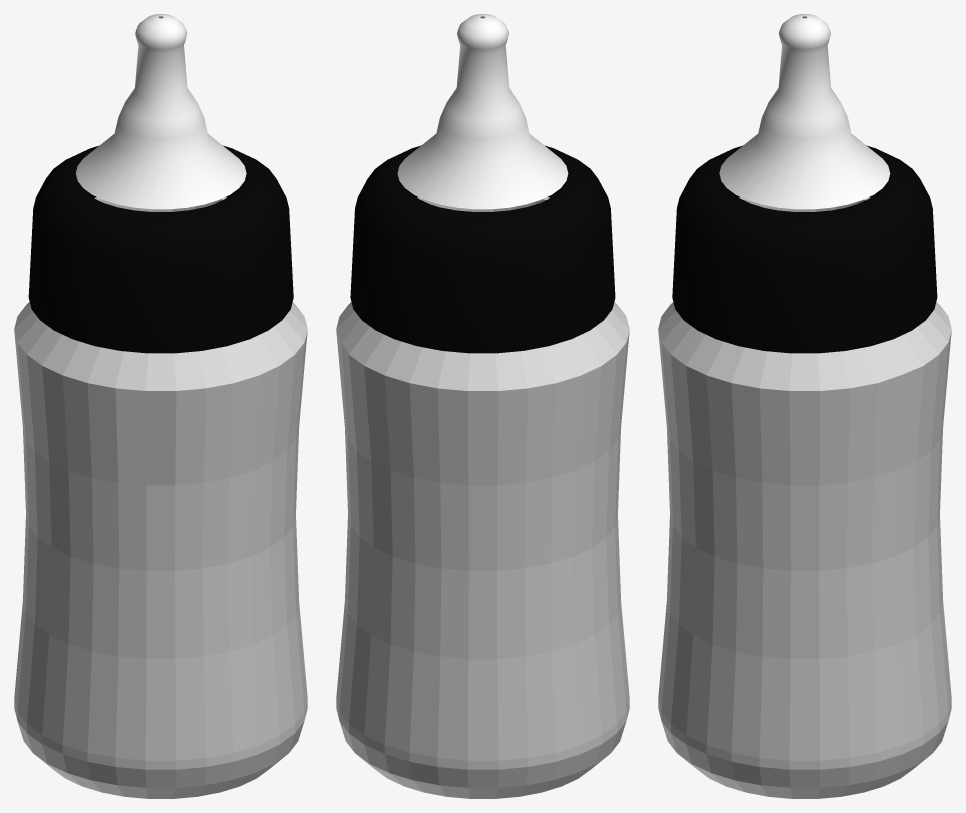
Rendered from feeding-bottle.glb.
The picture shows the model from 3 angles, left to right: view 1: azimuth 30°, elevation 25°; view 2: azimuth 150°, elevation 25°; view 3: azimuth 270°, elevation 25°; orthographic projection.
Visible parts, largest first — view 1: Circle, Circle.001, Circle.002; view 2: Circle, Circle.001, Circle.002; view 3: Circle, Circle.001, Circle.002.
Boxes of the visible parts, x1,y1,x2,y2 form: Circle: (14, 197, 307, 798); Circle.001: (28, 145, 293, 353); Circle.002: (75, 14, 246, 209); Circle: (336, 197, 629, 798); Circle.001: (350, 145, 615, 353); Circle.002: (397, 14, 568, 209); Circle: (658, 197, 951, 798); Circle.001: (672, 145, 937, 353); Circle.002: (719, 14, 890, 209).
Bounding box in the file's own units: 1.99 × 5.53 × 2.
3 materials, 1 textured.
